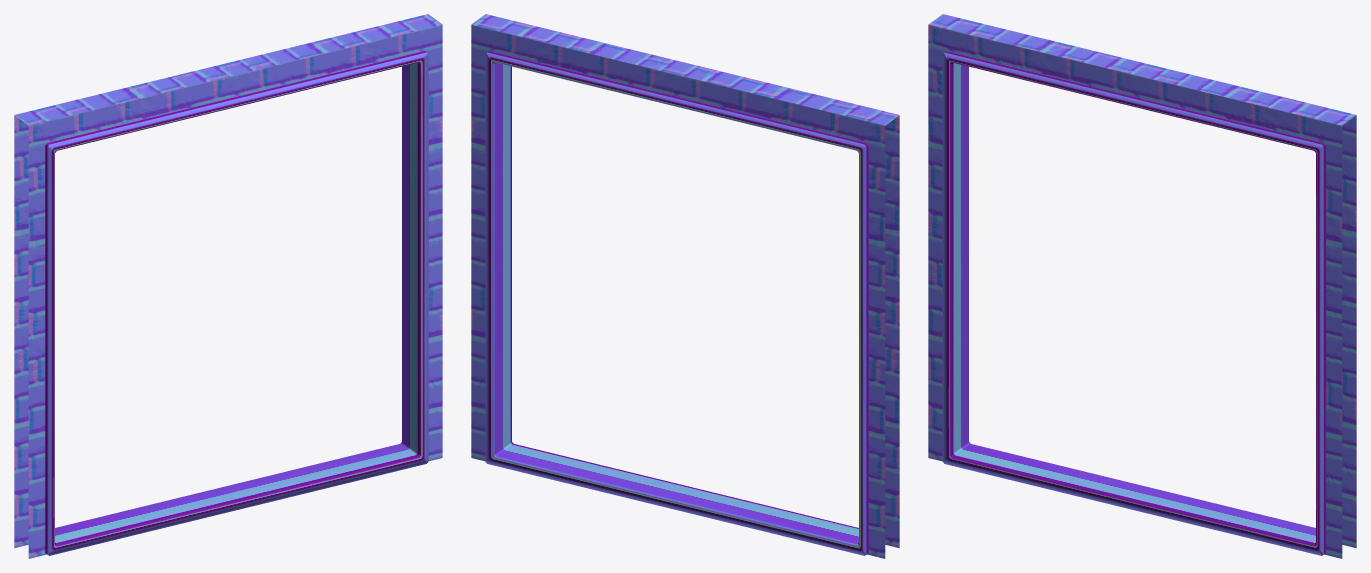
File: sm_wall_10.fbx
The picture shows the model from 3 angles, left to right: view 1: azimuth 30°, elevation 25°; view 2: azimuth 150°, elevation 25°; view 3: azimuth 330°, elevation 25°; orthographic projection.
Visible parts, largest first — view 1: sm_wall_10; view 2: sm_wall_10; view 3: sm_wall_10.
Part boxes in pixels (x1,y1,x2,y2): sm_wall_10: [14, 14, 442, 558]; sm_wall_10: [471, 14, 899, 558]; sm_wall_10: [928, 14, 1356, 558].
Size of the model in its own units: 300 by 300 by 23.83.
Materials: 1 (1 with a texture image).
